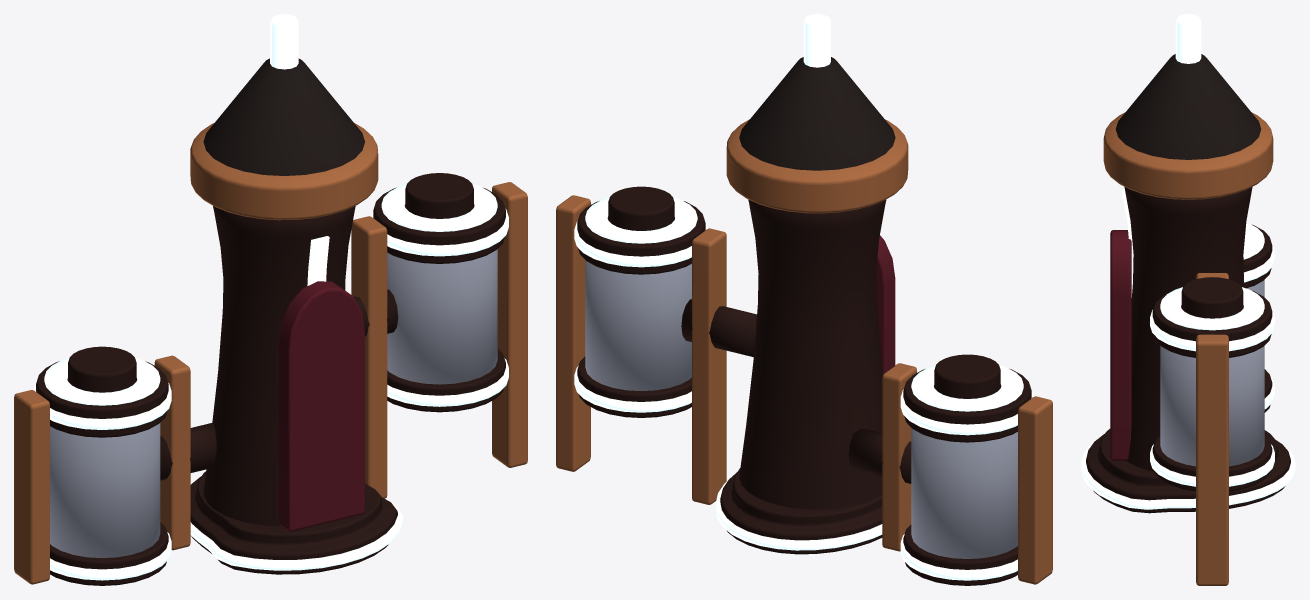
The model's file is Vat_T2.glb.
3 renders of one model, left to right at view 1: azimuth 30°, elevation 25°; view 2: azimuth 150°, elevation 25°; view 3: azimuth 270°, elevation 25°, orthographic. The views are drawn at different scales.
Visible parts, largest first — view 1: H_TankPosts.001, H_TankGoo.001, H_Spire.001, H_DoorArch.001, H_TankCaps.001, H_Roof.001, H_TankNeon.001, H_Capital.001, H_Plinth.001, H_PlinthNeon.001, H_TankPipes.001, H_Tip.001 (+1 smaller); view 2: H_Spire.001, H_TankPosts.001, H_TankGoo.001, H_TankCaps.001, H_Roof.001, H_TankNeon.001, H_Capital.001, H_Plinth.001, H_TankPipes.001, H_DoorArch.001, H_PlinthNeon.001, H_Tip.001; view 3: H_Spire.001, H_Roof.001, H_TankPosts.001, H_TankGoo.001, H_Capital.001, H_TankCaps.001, H_TankNeon.001, H_DoorArch.001, H_Plinth.001, H_PlinthNeon.001, H_Tip.001.
Part boxes in pixels (bbox=[...]): H_TankPosts.001: bbox=[14, 182, 527, 584]; H_TankGoo.001: bbox=[50, 249, 497, 558]; H_Spire.001: bbox=[203, 206, 355, 526]; H_DoorArch.001: bbox=[278, 281, 364, 531]; H_TankCaps.001: bbox=[36, 173, 505, 585]; H_Roof.001: bbox=[203, 58, 364, 175]; H_TankNeon.001: bbox=[33, 184, 508, 580]; H_Capital.001: bbox=[190, 123, 378, 220]; H_Plinth.001: bbox=[190, 471, 397, 574]; H_PlinthNeon.001: bbox=[190, 481, 402, 570]; H_TankPipes.001: bbox=[160, 289, 398, 480]; H_Tip.001: bbox=[270, 14, 298, 69]; H_Spire.001: bbox=[739, 199, 886, 509]; H_TankPosts.001: bbox=[556, 195, 1052, 584]; H_TankGoo.001: bbox=[585, 260, 1017, 558]; H_TankCaps.001: bbox=[577, 186, 1031, 585]; H_Roof.001: bbox=[739, 57, 895, 170]; H_TankNeon.001: bbox=[574, 197, 1033, 580]; H_Capital.001: bbox=[726, 119, 908, 213]; H_Plinth.001: bbox=[720, 468, 882, 554]; H_TankPipes.001: bbox=[681, 299, 911, 483]; H_DoorArch.001: bbox=[876, 235, 895, 374]; H_PlinthNeon.001: bbox=[716, 481, 882, 550]; H_Tip.001: bbox=[803, 14, 830, 67]; H_Spire.001: bbox=[1124, 187, 1252, 471]; H_Roof.001: bbox=[1115, 54, 1261, 159]; H_TankPosts.001: bbox=[1196, 273, 1228, 585]; H_TankGoo.001: bbox=[1160, 280, 1264, 466]; H_Capital.001: bbox=[1103, 112, 1273, 199]; H_TankCaps.001: bbox=[1152, 224, 1272, 491]; H_TankNeon.001: bbox=[1150, 222, 1274, 486]; H_DoorArch.001: bbox=[1110, 230, 1131, 460]; H_Plinth.001: bbox=[1086, 429, 1290, 513]; H_PlinthNeon.001: bbox=[1081, 437, 1295, 509]; H_Tip.001: bbox=[1175, 14, 1201, 63].
Size of the model in its own units: 6.89 by 6.74 by 2.85.
